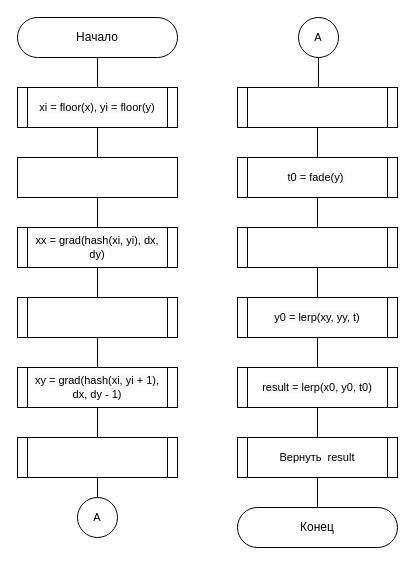
Some shapes in this 415 by 565 pixel diagram are drawn without their labels. The shapes that lost their labels are listed below. From the top down, each one's centre as x and y in pixels, then its label:
(x=317, y=107): t = fade(x)
(x=97, y=177): dx = x - xi, dy = y - yi
(x=317, y=247): x0 = lerp(xx, yx, t)
(x=97, y=317): yx = grad(hash(xi + 1, yi), dx - 1, dy)
(x=97, y=457): yy = grad(hash(xi + 1, yi + 1), dx - 1, dy - 1)
